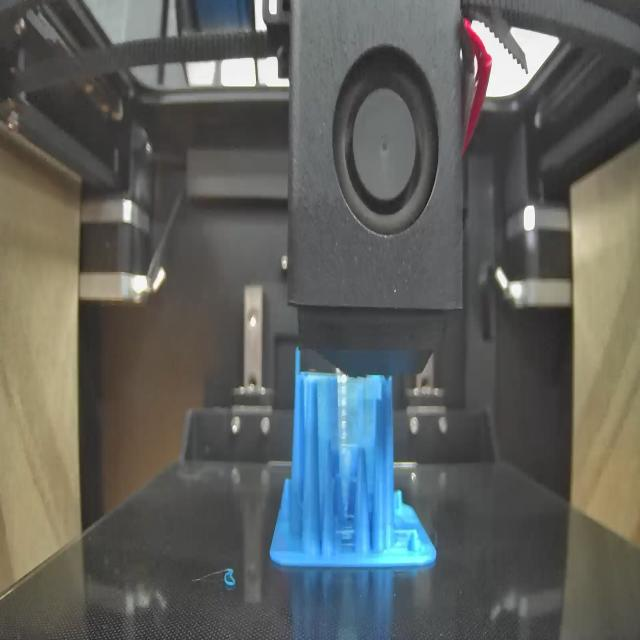stringing: (319, 378, 380, 452), (334, 462, 358, 556)
